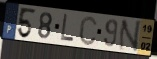5: (15, 6, 37, 39)
8: (37, 11, 53, 40)
9: (102, 19, 119, 49)
C: (78, 15, 99, 47)
L: (59, 13, 75, 44)
N: (117, 20, 144, 54)
